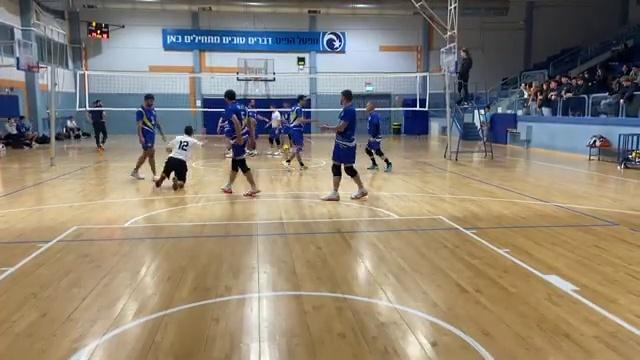ball: (281, 144, 291, 155)
